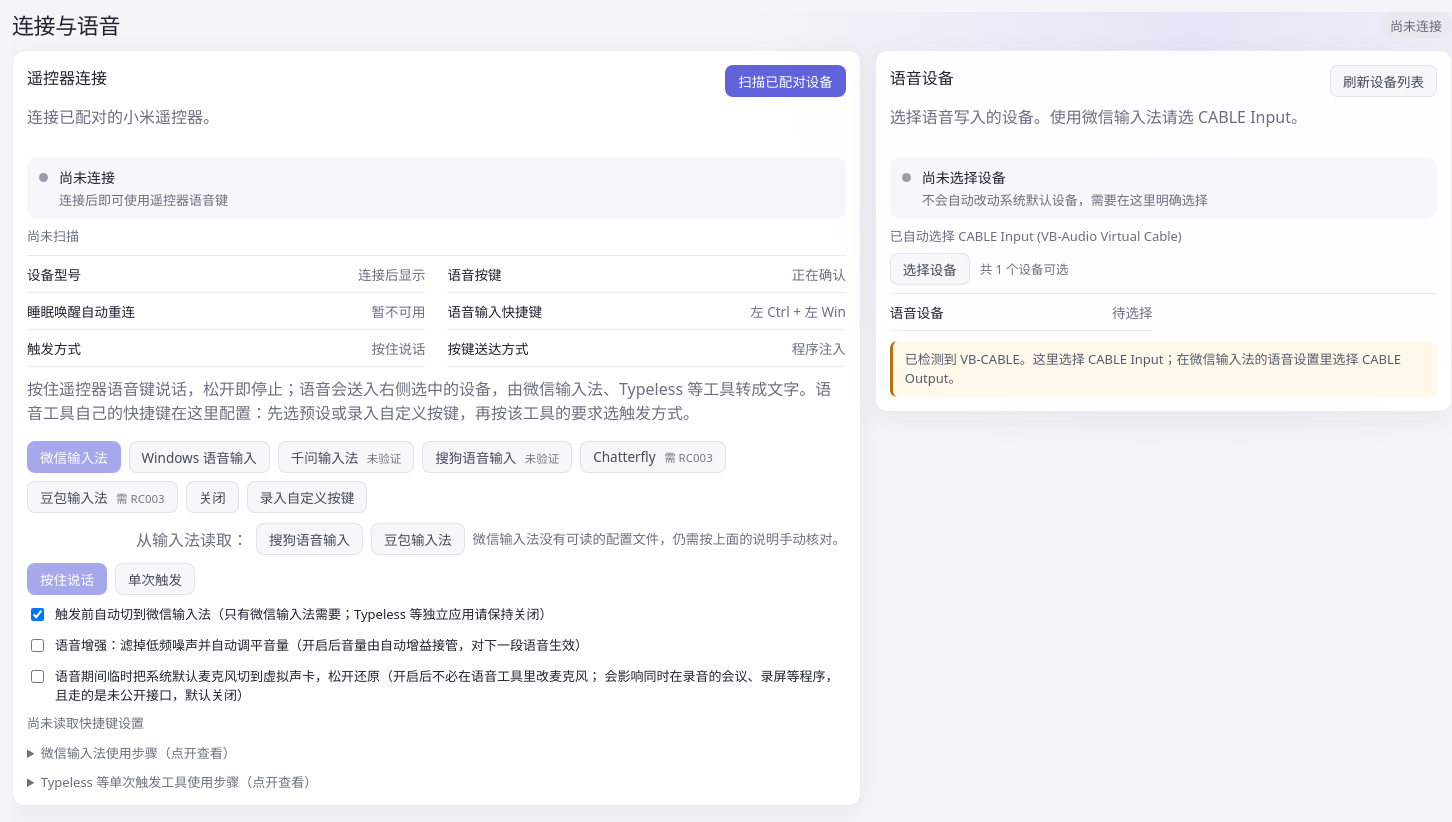
Test: 语音输入快捷键设置 › 临时切换默认麦克风：默认关闭，开启后写入设置
Click the 3rd checkbox: (38, 676) [31,670,44,683]
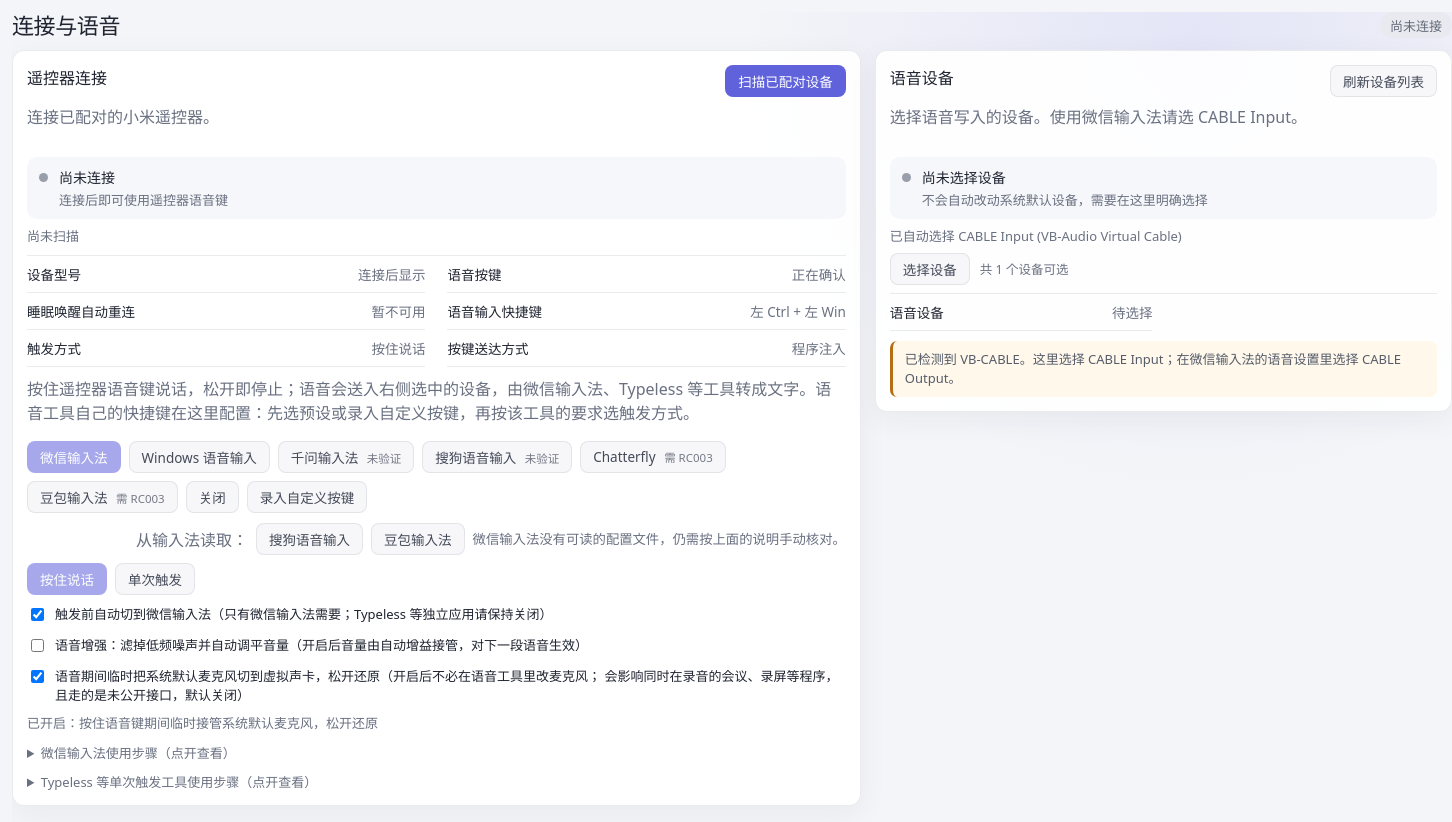
Expected: the text "临时接管系统默认麦克风" is shown, [27,714,378,732]
